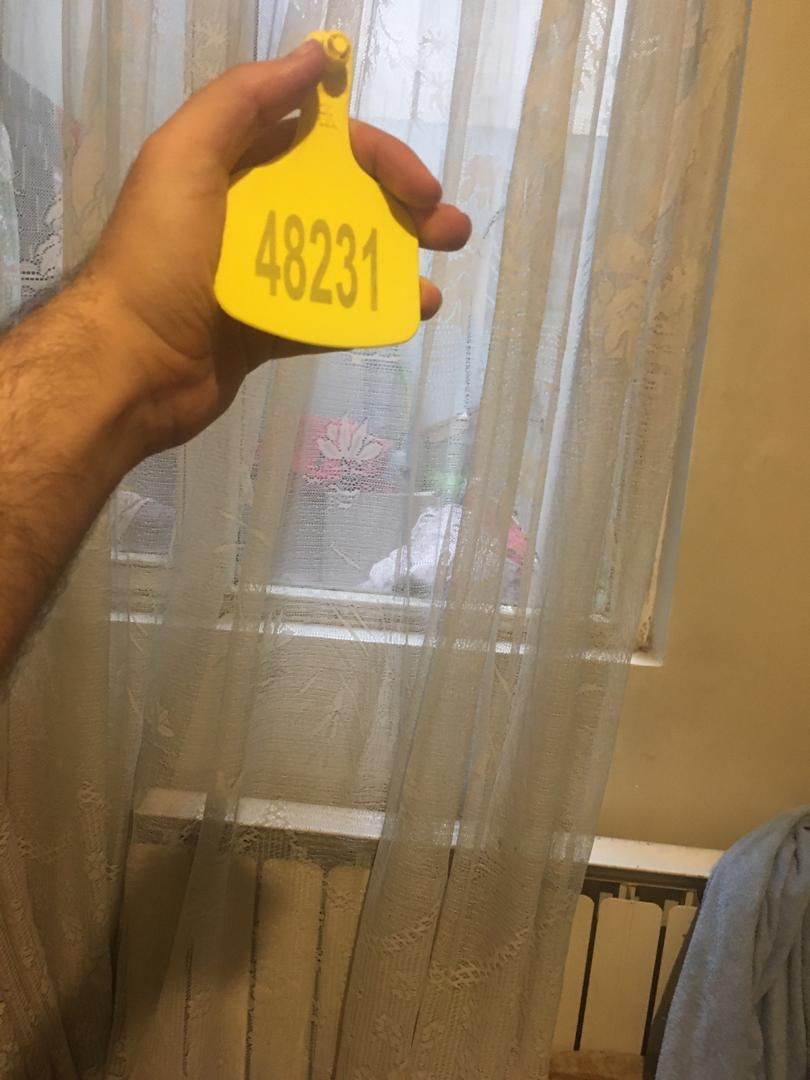digit: (250, 203, 387, 315)
